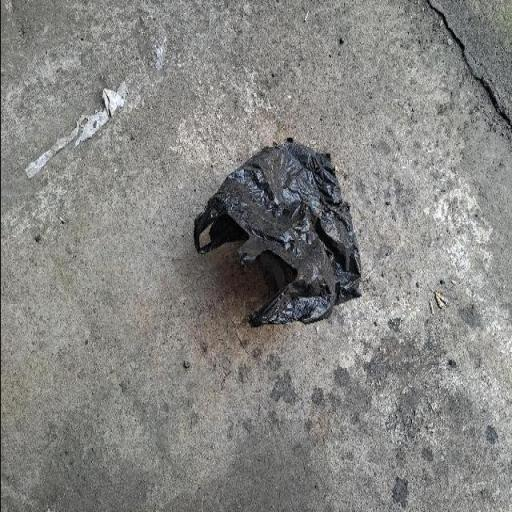plastic-bag: (191, 137, 362, 331)
